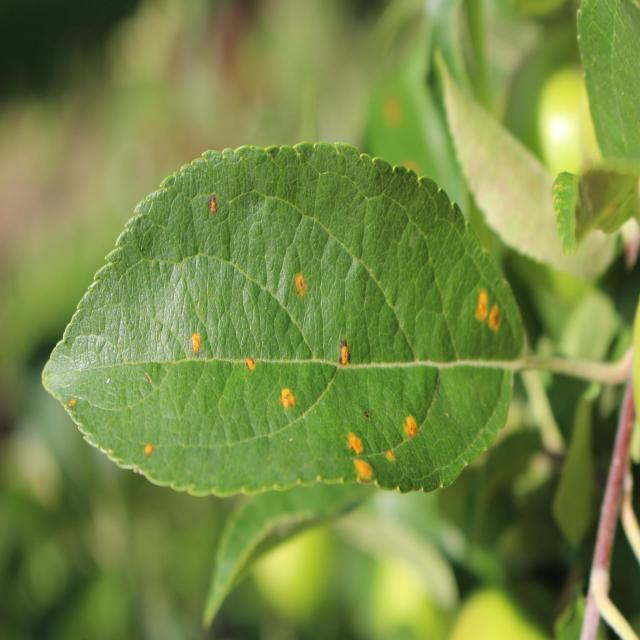Rust: (345, 456, 383, 492), (337, 322, 355, 379), (185, 326, 209, 363), (487, 298, 506, 342), (279, 383, 300, 421), (474, 280, 488, 332), (345, 428, 370, 454), (291, 269, 309, 304), (401, 411, 419, 444), (383, 445, 401, 466), (207, 195, 219, 223), (140, 441, 155, 461), (65, 393, 80, 412), (245, 353, 258, 374)
